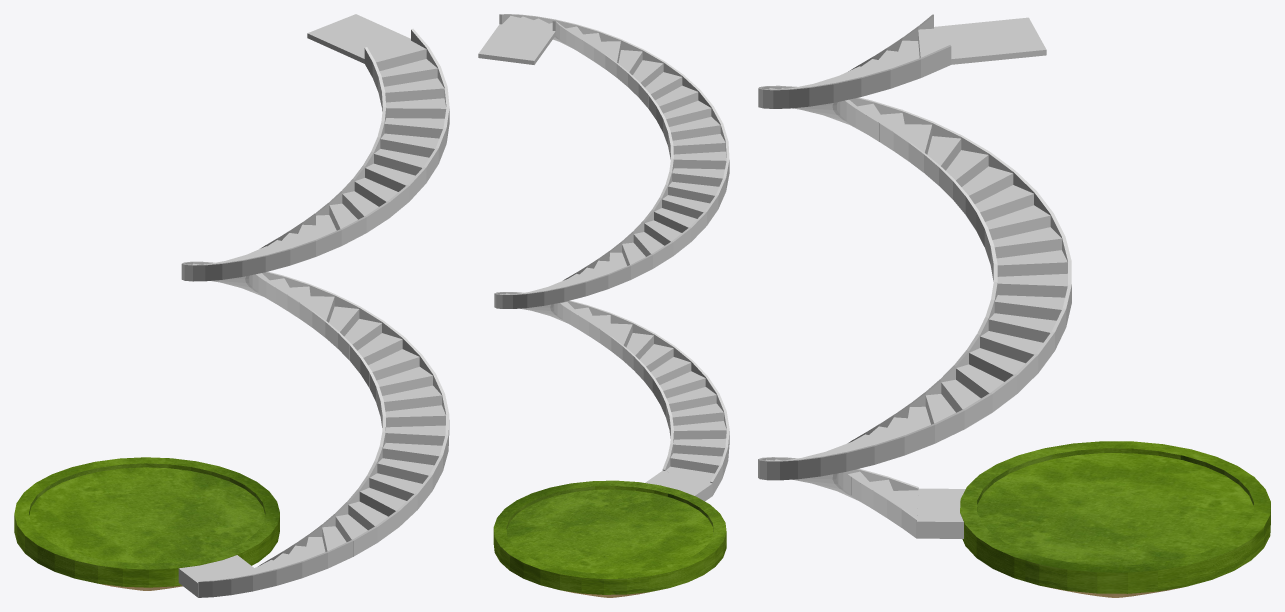
Rendered from Sprial Stairs.fbx.
3 views of the same model, side by side, from view 1: azimuth 30°, elevation 25°; view 2: azimuth 150°, elevation 25°; view 3: azimuth 270°, elevation 25° (orthographic). The views are drawn at different scales.
Parts seen in each view (by area): view 1: Cylinder.041, Cylinder.042, Cube.093, Cube.051; view 2: Cylinder.041, Cylinder.042, Cube.093, Cube.051; view 3: Cylinder.041, Cylinder.042, Cube.093, Cube.051.
Boxes of the visible parts, x1,y1,x2,y2 form: Cylinder.041: (181,28,449,597); Cylinder.042: (14,457,279,590); Cube.093: (307,14,410,63); Cube.051: (178,555,253,597); Cylinder.041: (494,14,729,495); Cylinder.042: (493,480,726,597); Cube.093: (478,24,555,64); Cube.051: (645,470,712,501); Cylinder.041: (758,14,1071,538); Cylinder.042: (960,441,1270,597); Cube.093: (934,17,1046,64); Cube.051: (917,488,965,538).
Bounding box in the file's own units: 2727 × 4634 × 3288.
Materials: 3 (2 with a texture image).
